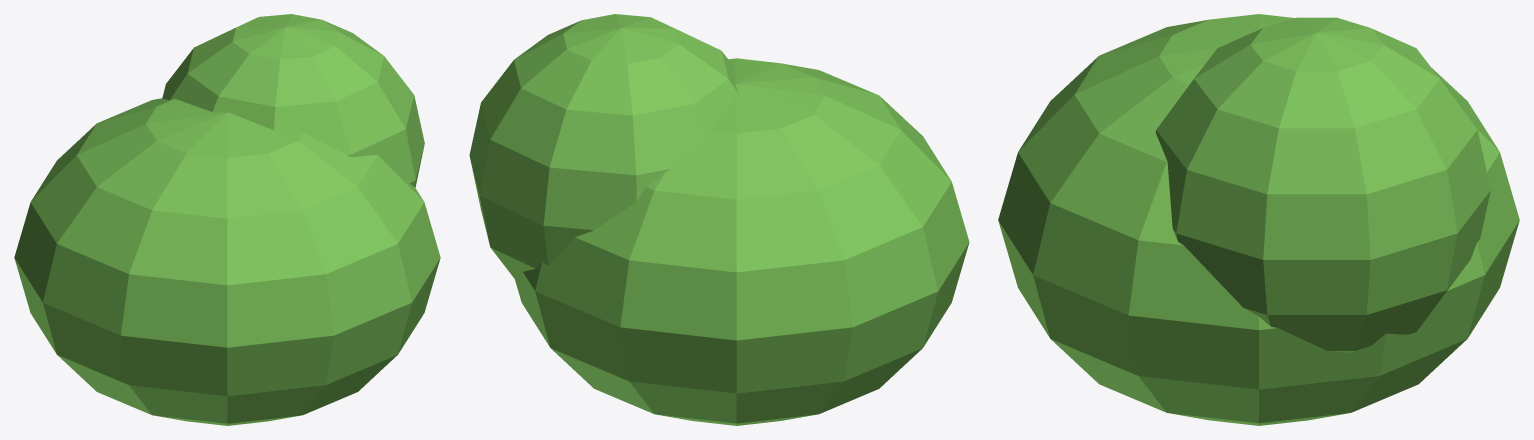
File: g_lettuce.glb
3 views of the same model, side by side, from view 1: azimuth 30°, elevation 25°; view 2: azimuth 150°, elevation 25°; view 3: azimuth 270°, elevation 25° (orthographic). The views are drawn at different scales.
Parts seen in each view (by area): view 1: g_lettuce; view 2: g_lettuce; view 3: g_lettuce.
Boxes of the visible parts, <box> form: g_lettuce: <box>14,14,440,425</box>; g_lettuce: <box>469,14,969,425</box>; g_lettuce: <box>998,14,1519,425</box>.
Size of the model in its own units: 0.1871 by 0.1575 by 0.18.
